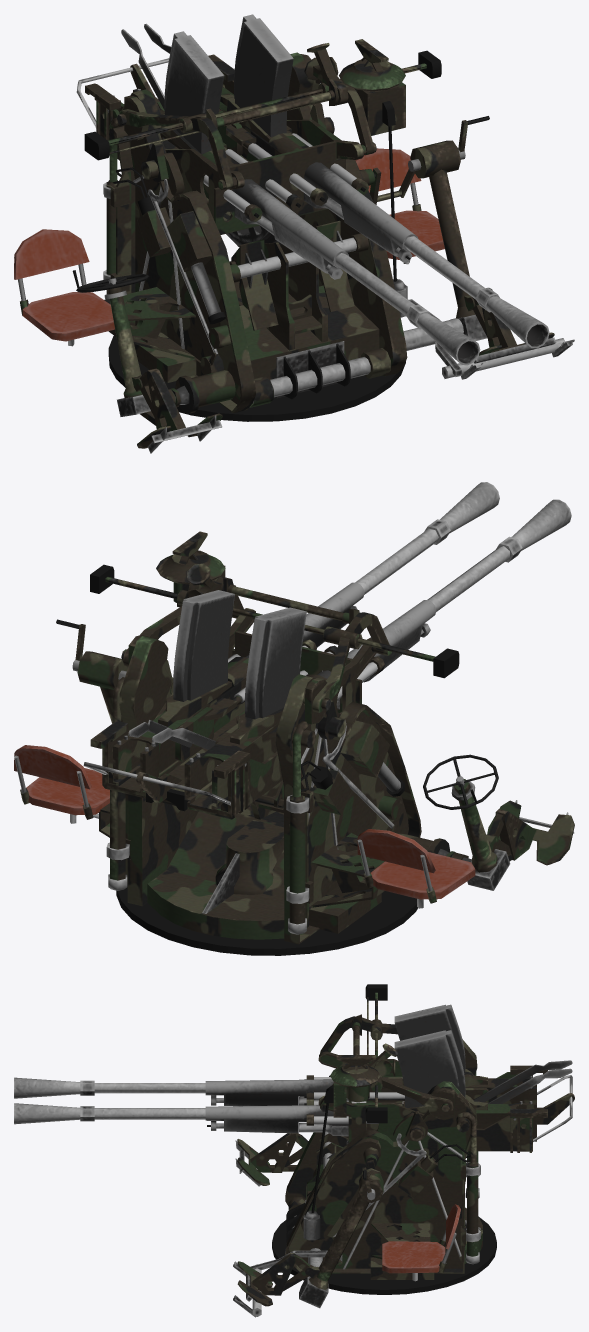
The model's file is 高射炮.glb.
3 views of the same model, one above another, from view 1: azimuth 30°, elevation 25°; view 2: azimuth 150°, elevation 25°; view 3: azimuth 270°, elevation 25° (orthographic). The views are drawn at different scales.
Visible parts, largest first — view 1: Object_2; view 2: Object_2; view 3: Object_2.
Part boxes in pixels (left/top/right/bottom): Object_2: left=14, top=14, right=574, bottom=453; Object_2: left=14, top=482, right=574, bottom=955; Object_2: left=14, top=984, right=574, bottom=1317.
Bounding box in the file's own units: 172 × 117 × 260.
1 material, 1 textured.
